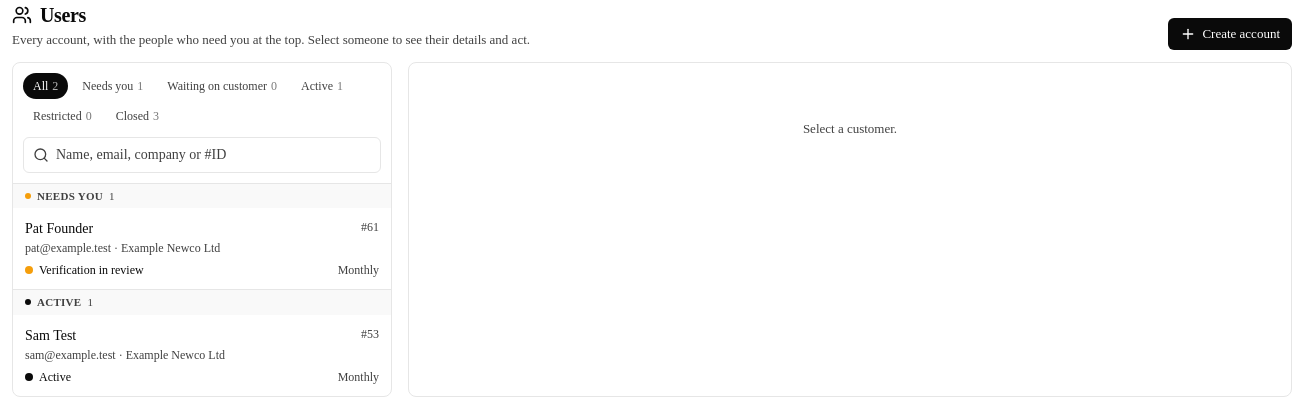
Admin › Customers › closed accounts load from their own list; a failure says so and can be retried
This screenshot has width=1304, height=414.
Click the button "Closed3": x=137, y=116 106,102 -> 169,128
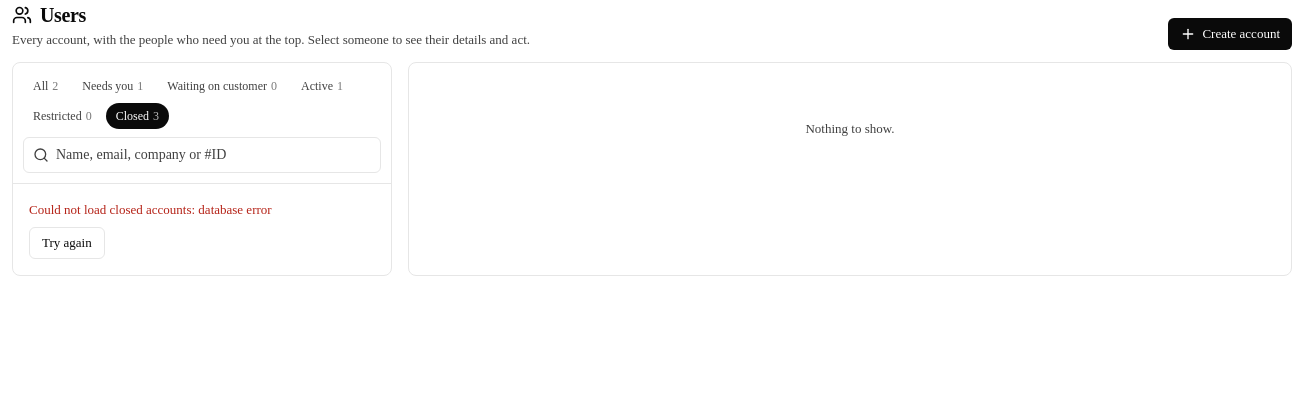
expect the message shows "Could not load closed accounts": met, box 29,202 -> 272,259
Click the button "Try again": x=67, y=243 29,227 -> 105,259
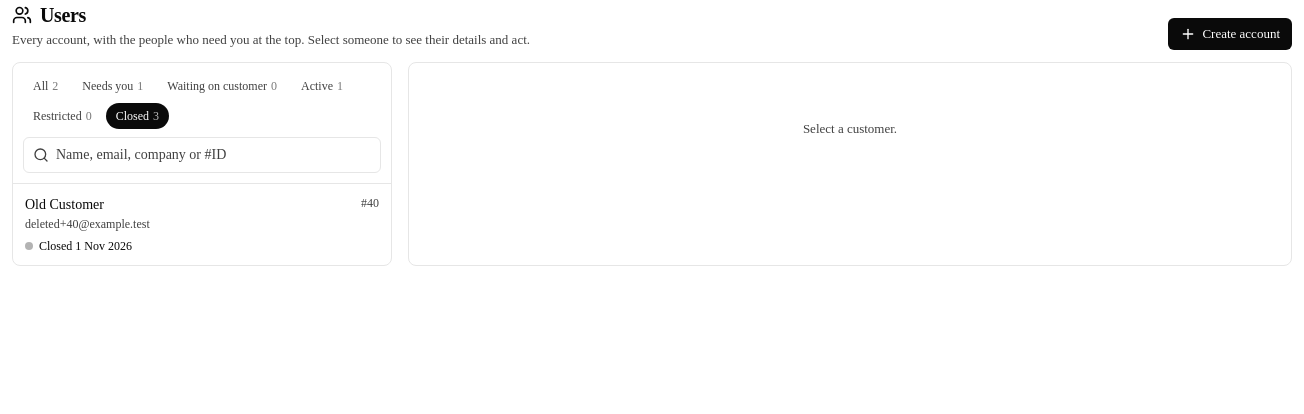
expect the text "Old Customer" is shown: met, box 25,194 -> 104,214
